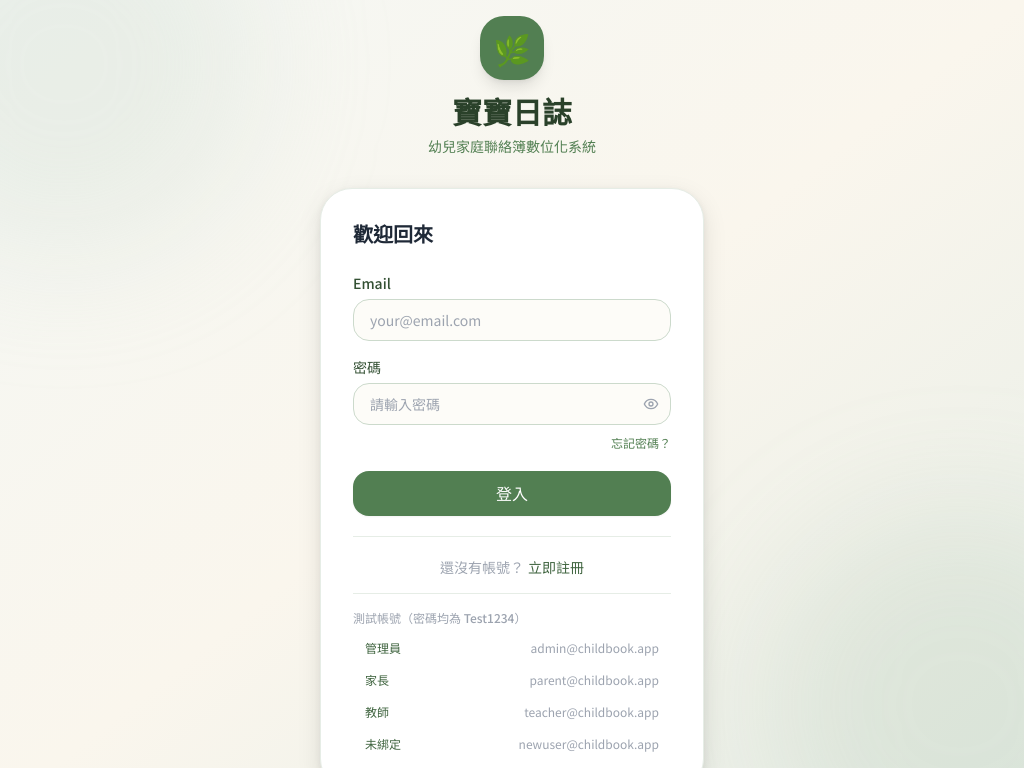
it: LoginPage (v2.2 email-based) › demo parent fills email
The width and height of the screenshot is (1024, 768).
Click the button "家長 parent@childbook.app": [594, 680] box [353, 666, 671, 694]
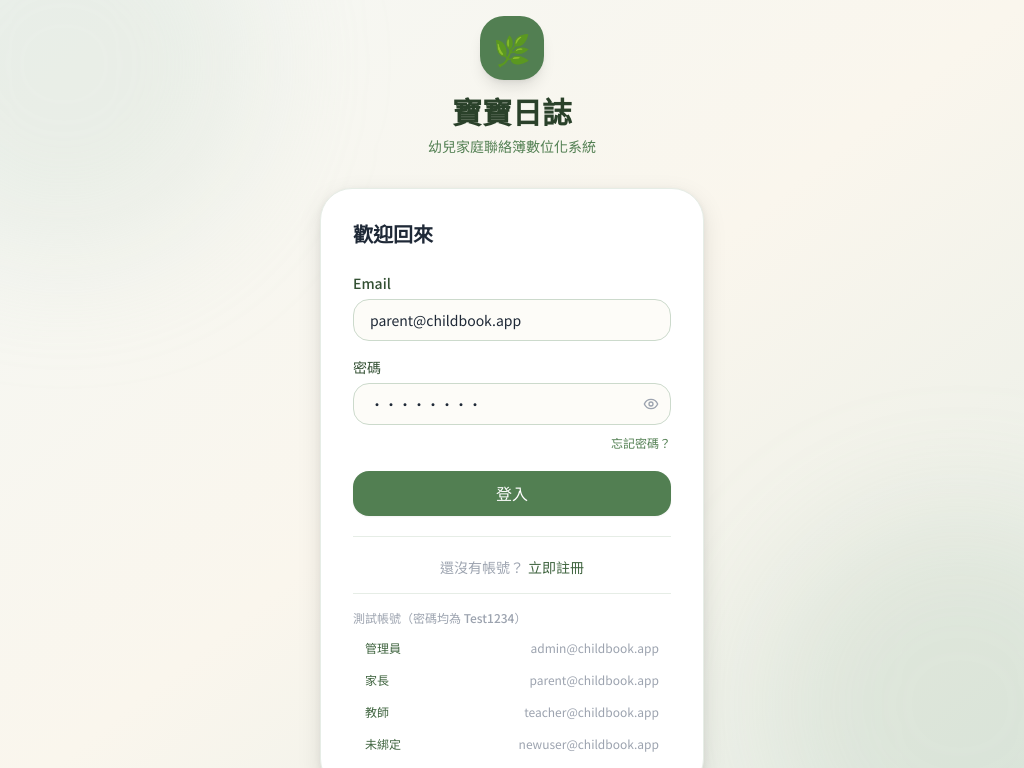
Expected: the field with placeholder "your@email.com" holds "parent@childbook.app", [353, 299, 671, 341]
